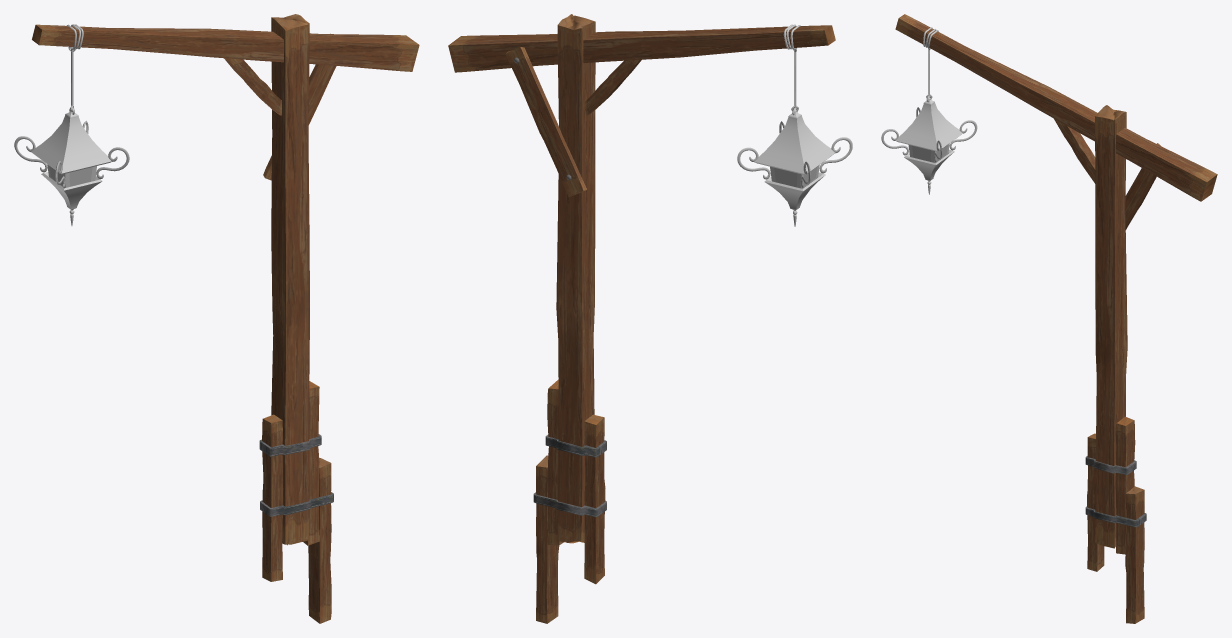
File: SM_Farm_LightPole_01.fbx
The picture shows the model from 3 angles, left to right: view 1: azimuth 30°, elevation 25°; view 2: azimuth 150°, elevation 25°; view 3: azimuth 330°, elevation 25°; orthographic projection. The views are drawn at different scales.
Visible parts, largest first — view 1: SM_Farm_LightPole_01_LOD0; view 2: SM_Farm_LightPole_01_LOD0; view 3: SM_Farm_LightPole_01_LOD0.
Boxes of the visible parts, x1,y1,x2,y2 form: SM_Farm_LightPole_01_LOD0: (14, 14, 419, 623); SM_Farm_LightPole_01_LOD0: (448, 14, 852, 623); SM_Farm_LightPole_01_LOD0: (881, 14, 1217, 623).
Size of what is drawn, in the model's own units: 286 by 477 by 55.67.
